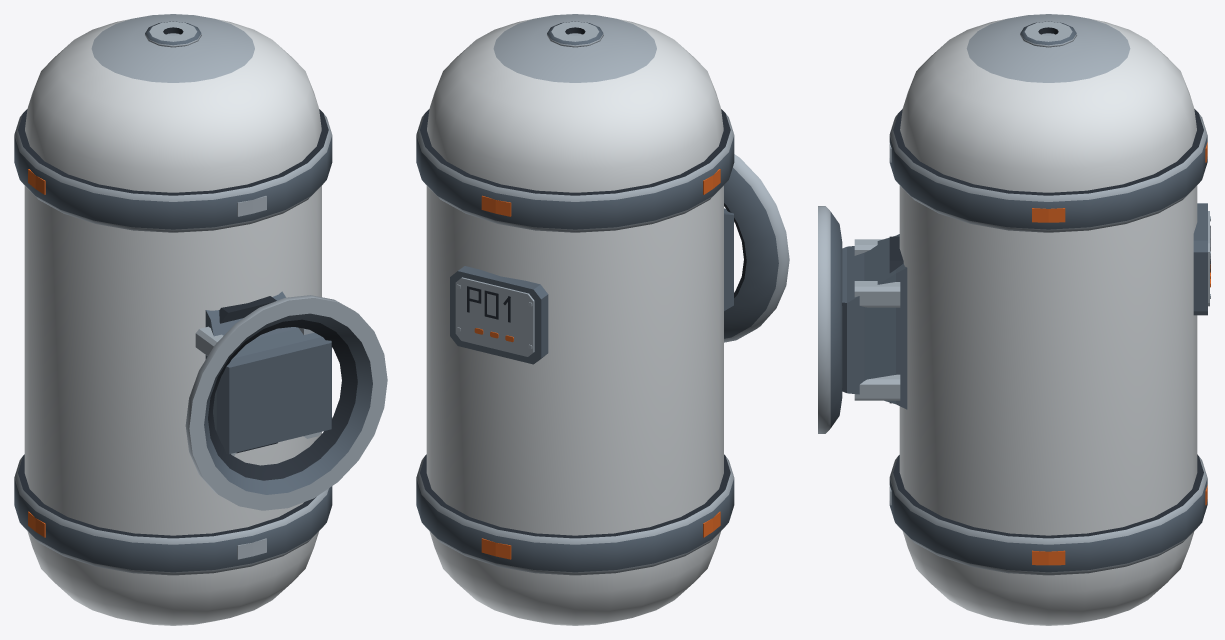
The model's file is tanque_combustible_p01.glb.
3 renders of one model, left to right at view 1: azimuth 30°, elevation 25°; view 2: azimuth 150°, elevation 25°; view 3: azimuth 270°, elevation 25°, orthographic.
Parts seen in each view (by area): view 1: P01 | Casco y tapas redondeadas, P01 | Brida lateral y refuerzo integrado, P01 | Bandas y marcas de inspección; view 2: P01 | Casco y tapas redondeadas, P01 | Bandas y marcas de inspección, P01 | Brida lateral y refuerzo integrado, P01 | Placa de identificación e indicadores; view 3: P01 | Casco y tapas redondeadas, P01 | Bandas y marcas de inspección, P01 | Brida lateral y refuerzo integrado, P01 | Placa de identificación e indicadores.
Boxes of the visible parts, x1,y1,x2,y2 form: P01 | Casco y tapas redondeadas: [24, 14, 321, 625]; P01 | Brida lateral y refuerzo integrado: [185, 291, 387, 510]; P01 | Bandas y marcas de inspección: [14, 109, 332, 575]; P01 | Casco y tapas redondeadas: [426, 14, 723, 625]; P01 | Bandas y marcas de inspección: [416, 109, 734, 575]; P01 | Brida lateral y refuerzo integrado: [724, 154, 789, 342]; P01 | Placa de identificación e indicadores: [450, 266, 548, 364]; P01 | Casco y tapas redondeadas: [899, 14, 1197, 625]; P01 | Bandas y marcas de inspección: [889, 109, 1207, 575]; P01 | Brida lateral y refuerzo integrado: [818, 206, 907, 433]; P01 | Placa de identificación e indicadores: [1193, 203, 1210, 315].
Bounding box in the file's own units: 0.9 × 1.8 × 1.11.
